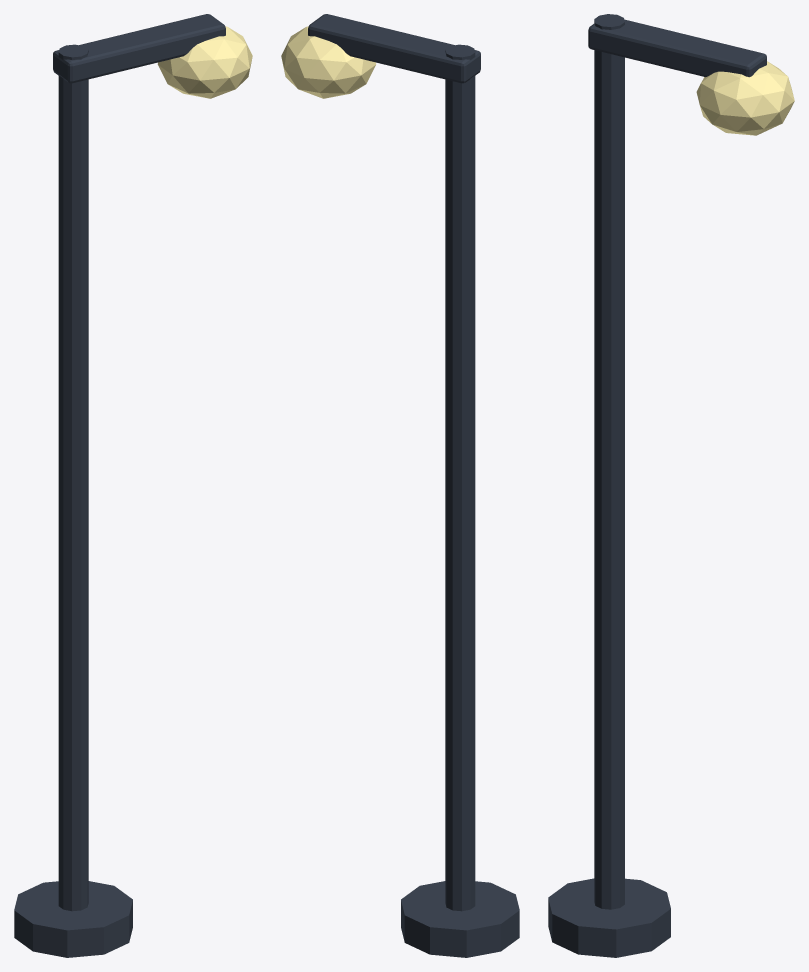
Rendered from Skate_LampPost.fbx.
3 renders of one model, left to right at view 1: azimuth 30°, elevation 25°; view 2: azimuth 150°, elevation 25°; view 3: azimuth 330°, elevation 25°, orthographic. The views are drawn at different scales.
Visible parts, largest first — view 1: LampPost; view 2: LampPost; view 3: LampPost.
Part boxes in pixels (x1,y1,x2,y2): LampPost: (14,14,252,957); LampPost: (281,14,519,957); LampPost: (548,14,794,957).
Size of the model in its own units: 0.8424 by 3.2 by 0.4.
